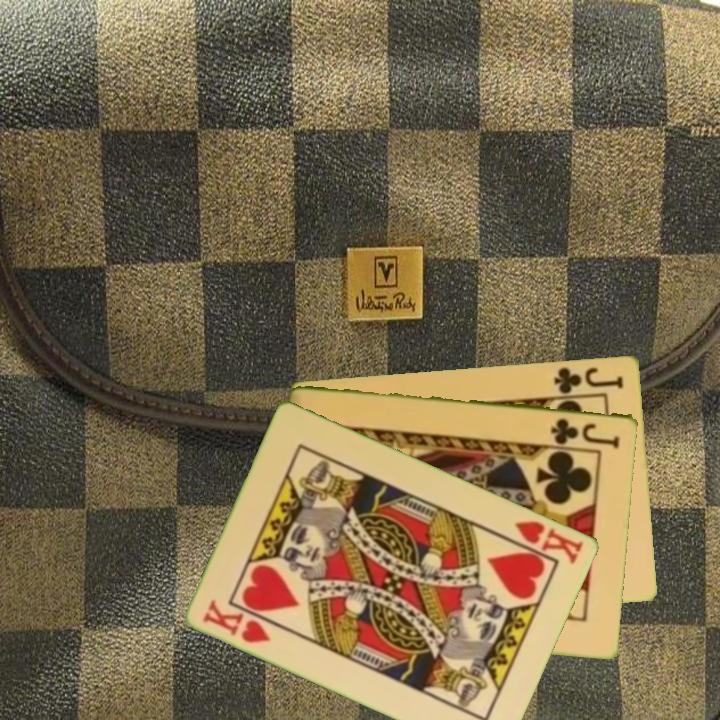Jc: (547, 414, 623, 450), (550, 363, 627, 396)
Kh: (502, 516, 587, 567), (200, 595, 274, 646)
